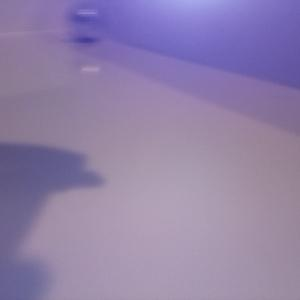alive_ball: (67, 8, 105, 40)
